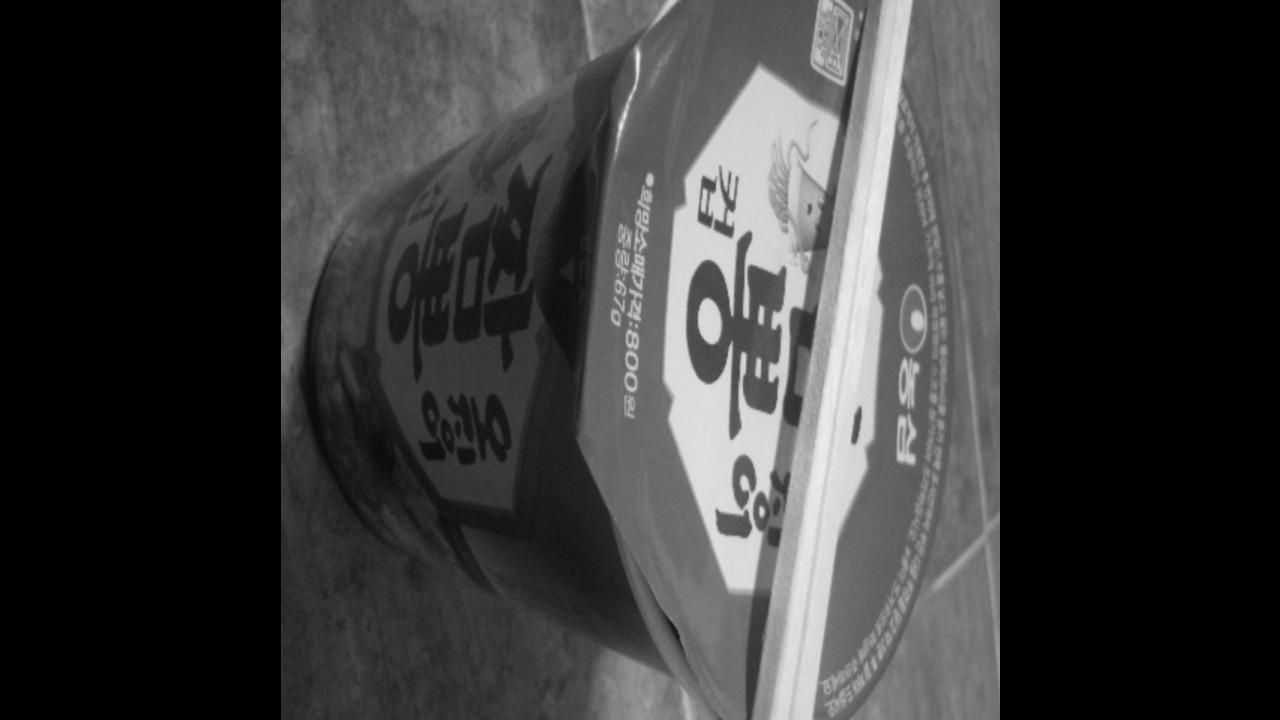chopstick: (706, 0, 942, 720)
